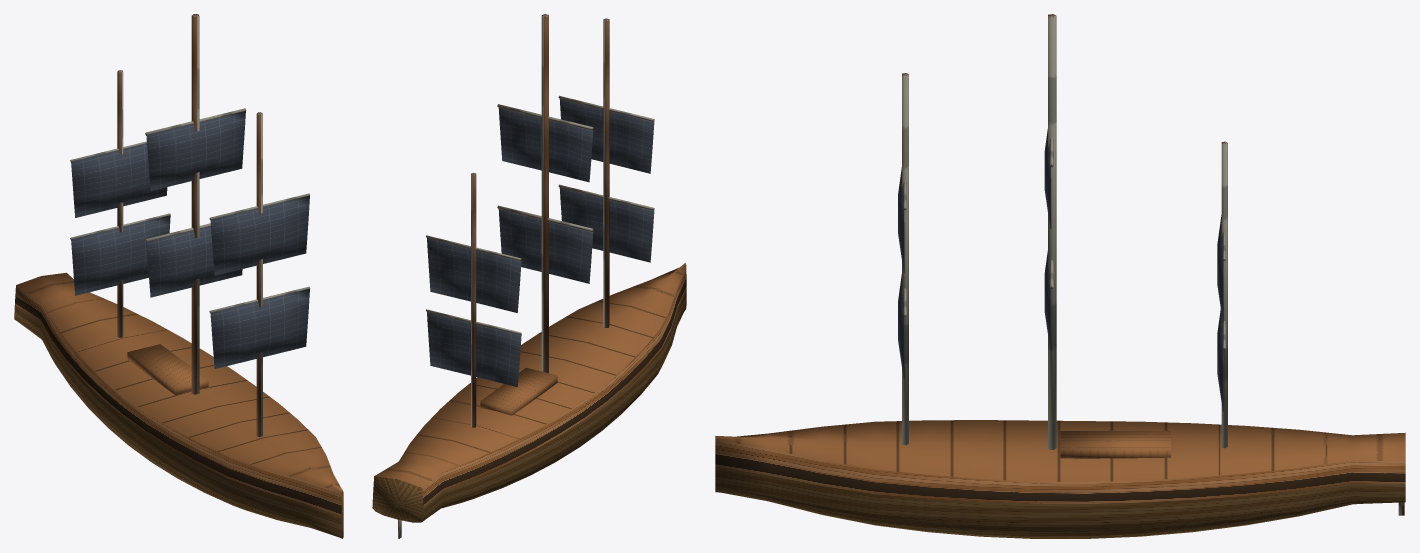
File: SHIP-H_LOD1.fbx
3 renders of one model, left to right at view 1: azimuth 30°, elevation 25°; view 2: azimuth 150°, elevation 25°; view 3: azimuth 270°, elevation 25°, orthographic. The views are drawn at different scales.
Visible parts, largest first — view 1: Hull, Sails, Masts; view 2: Hull, Sails, Masts; view 3: Hull, Masts, Sails.
Boxes of the visible parts, <box> form: Hull: <box>14,272,343,538</box>; Sails: <box>71,111,309,368</box>; Masts: <box>70,14,310,436</box>; Hull: <box>372,263,686,522</box>; Sails: <box>427,98,654,386</box>; Masts: <box>398,14,654,538</box>; Hull: <box>715,420,1405,538</box>; Masts: <box>902,14,1404,515</box>; Sails: <box>898,129,1223,411</box>.
Bounding box in the file's own units: 7.2 × 32 × 26.
Materials: 3 (3 with a texture image).
